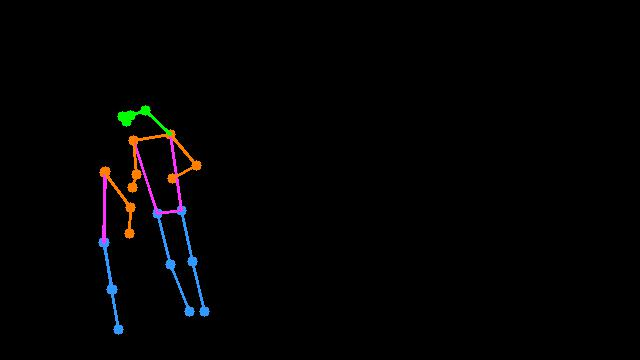normal: (82, 93, 218, 343)
